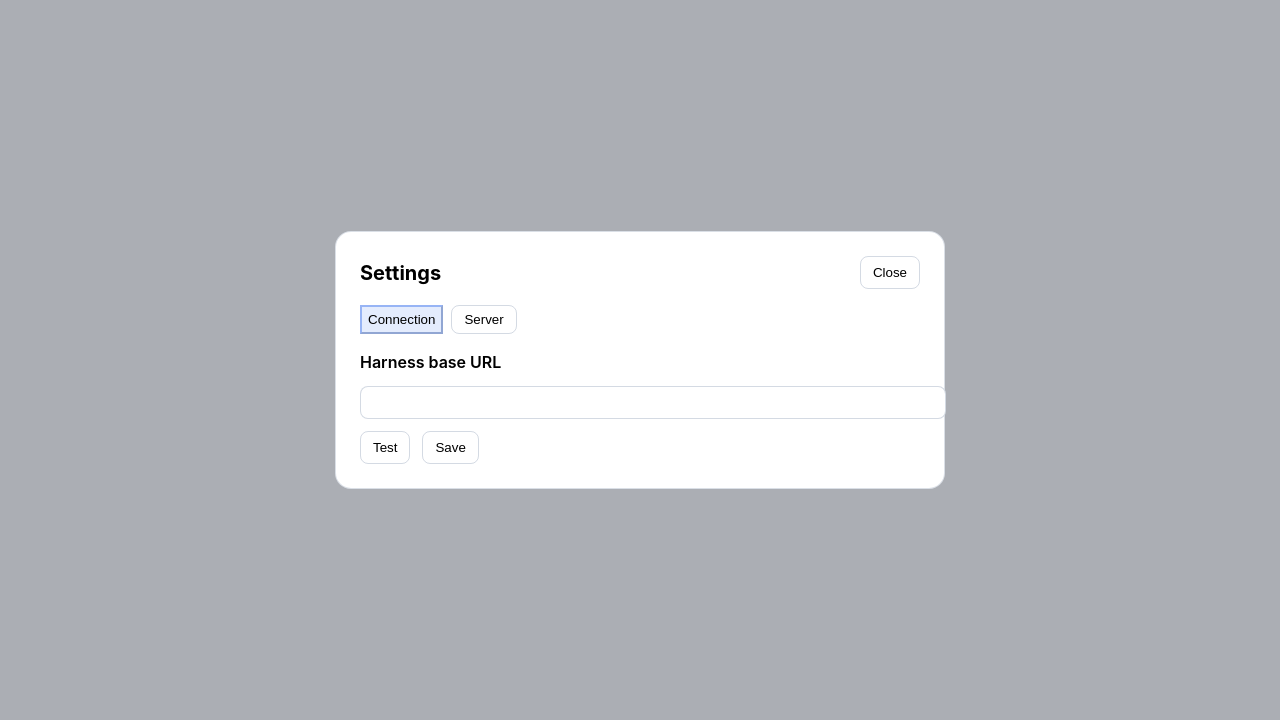
Test: SettingsDialog › loads and saves the server config
Step 1. Click the button with test id "server-tab" → (484,320), box [451,305,517,334]
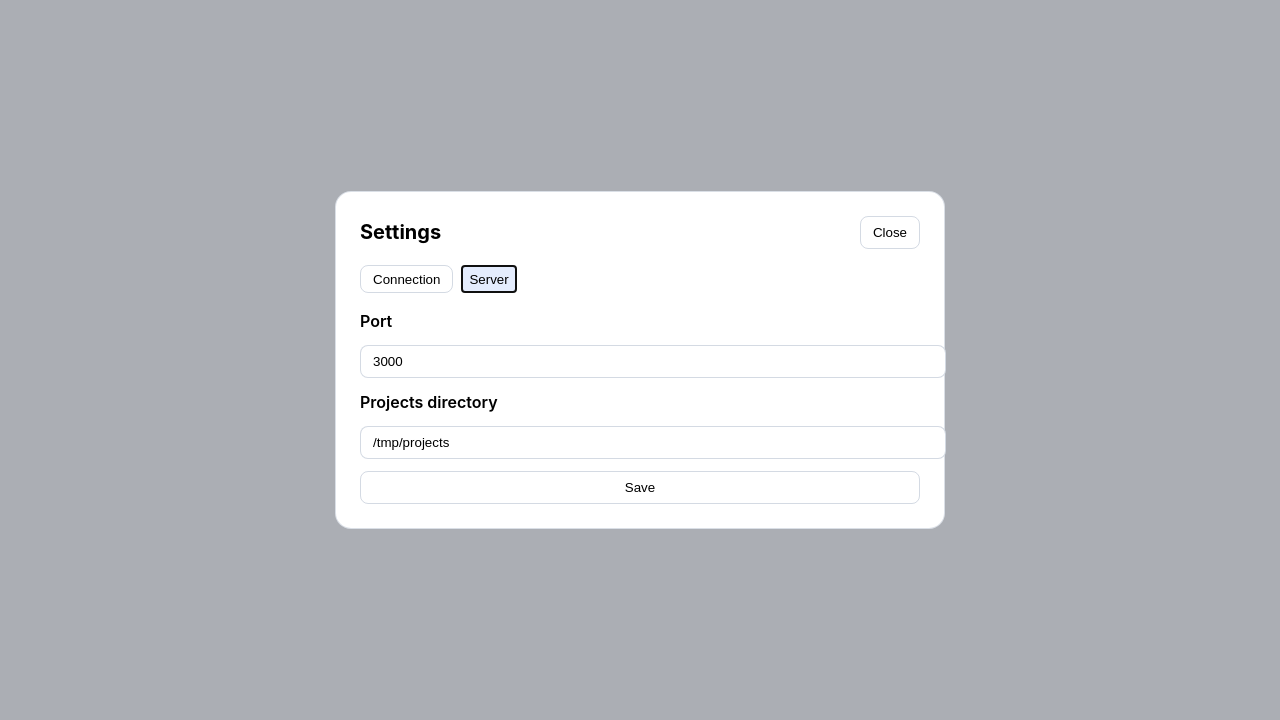
Now the field with test id "settings-port" holds "3000"
Step 2. Replace the text in the field with test id "settings-port" with "4000" → (653,362), box [360,345,946,378]
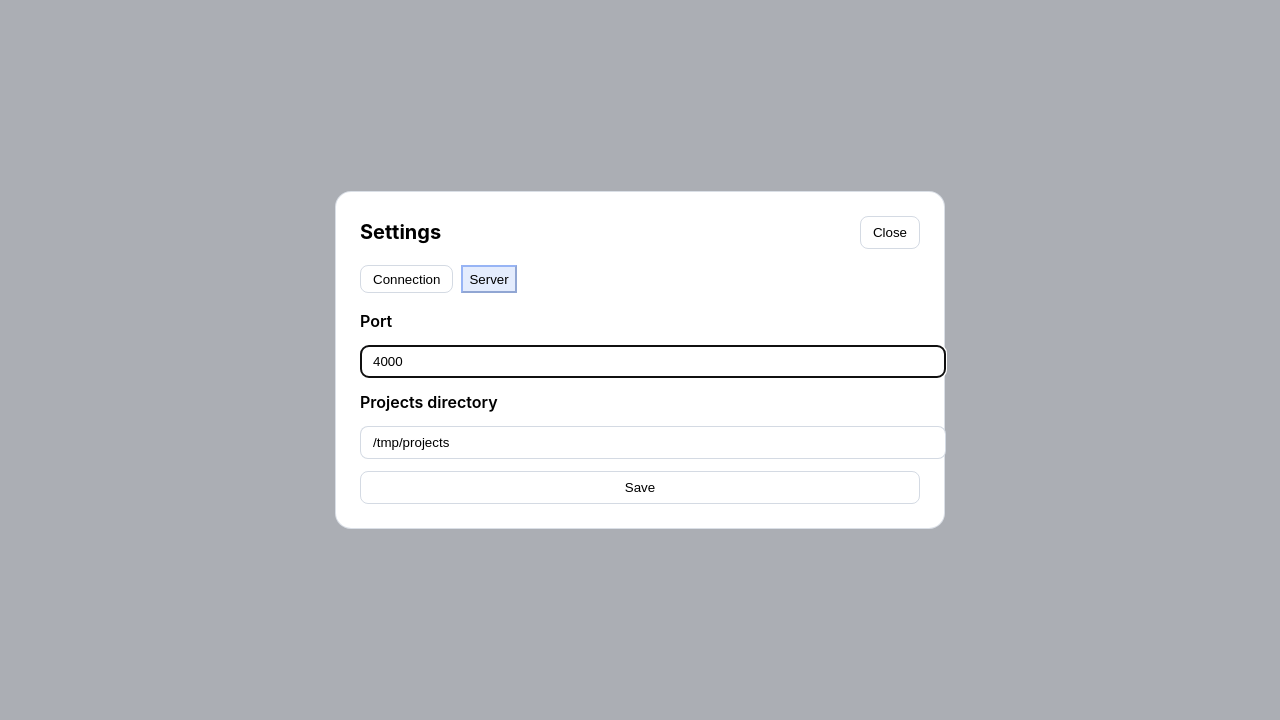
Step 3. Click the button with test id "save-server-settings" → (640,488), box [360,471,920,504]
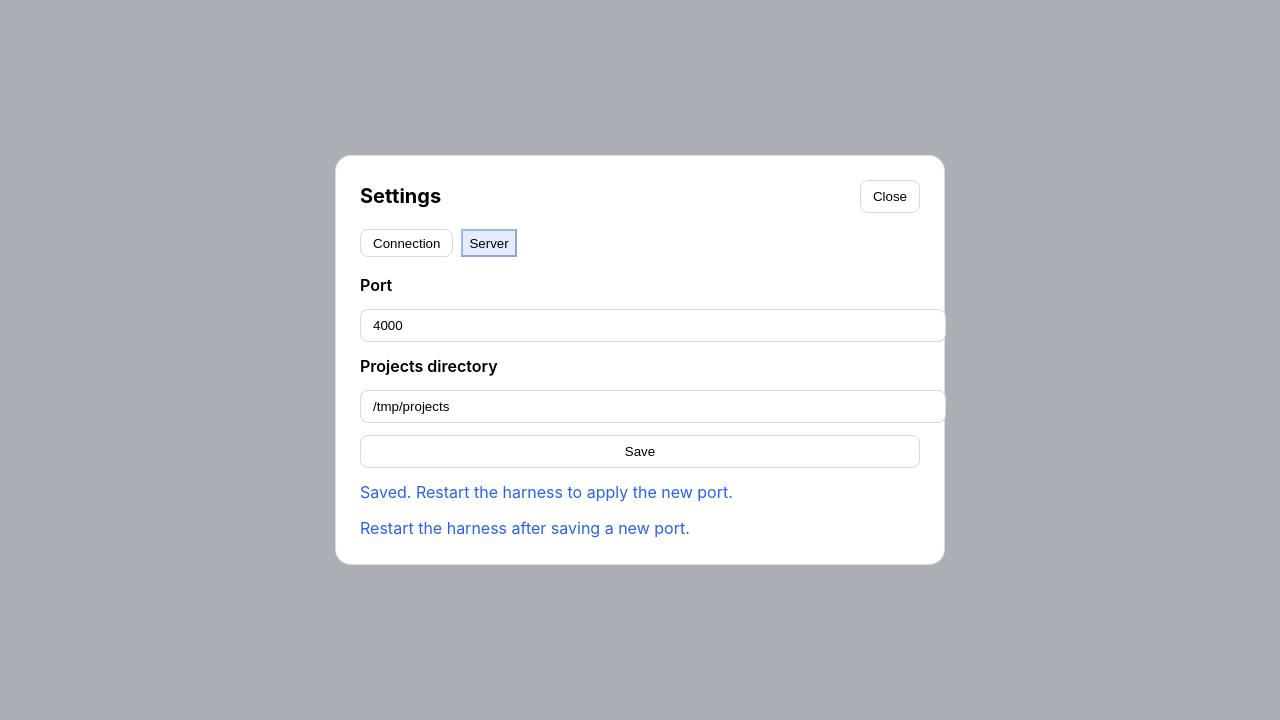
Now the text with test id "server-status" shows "Restart the harness", box [360,482,733,502]
Now the text "Restart the harness after saving a new port." is shown, box [360,518,690,538]
